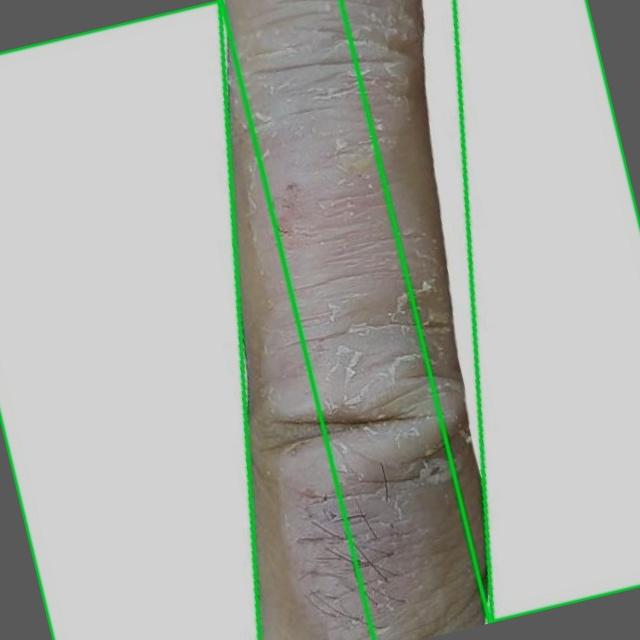Eczema: (0, 0, 374, 639), (341, 0, 639, 622), (225, 0, 486, 639)
